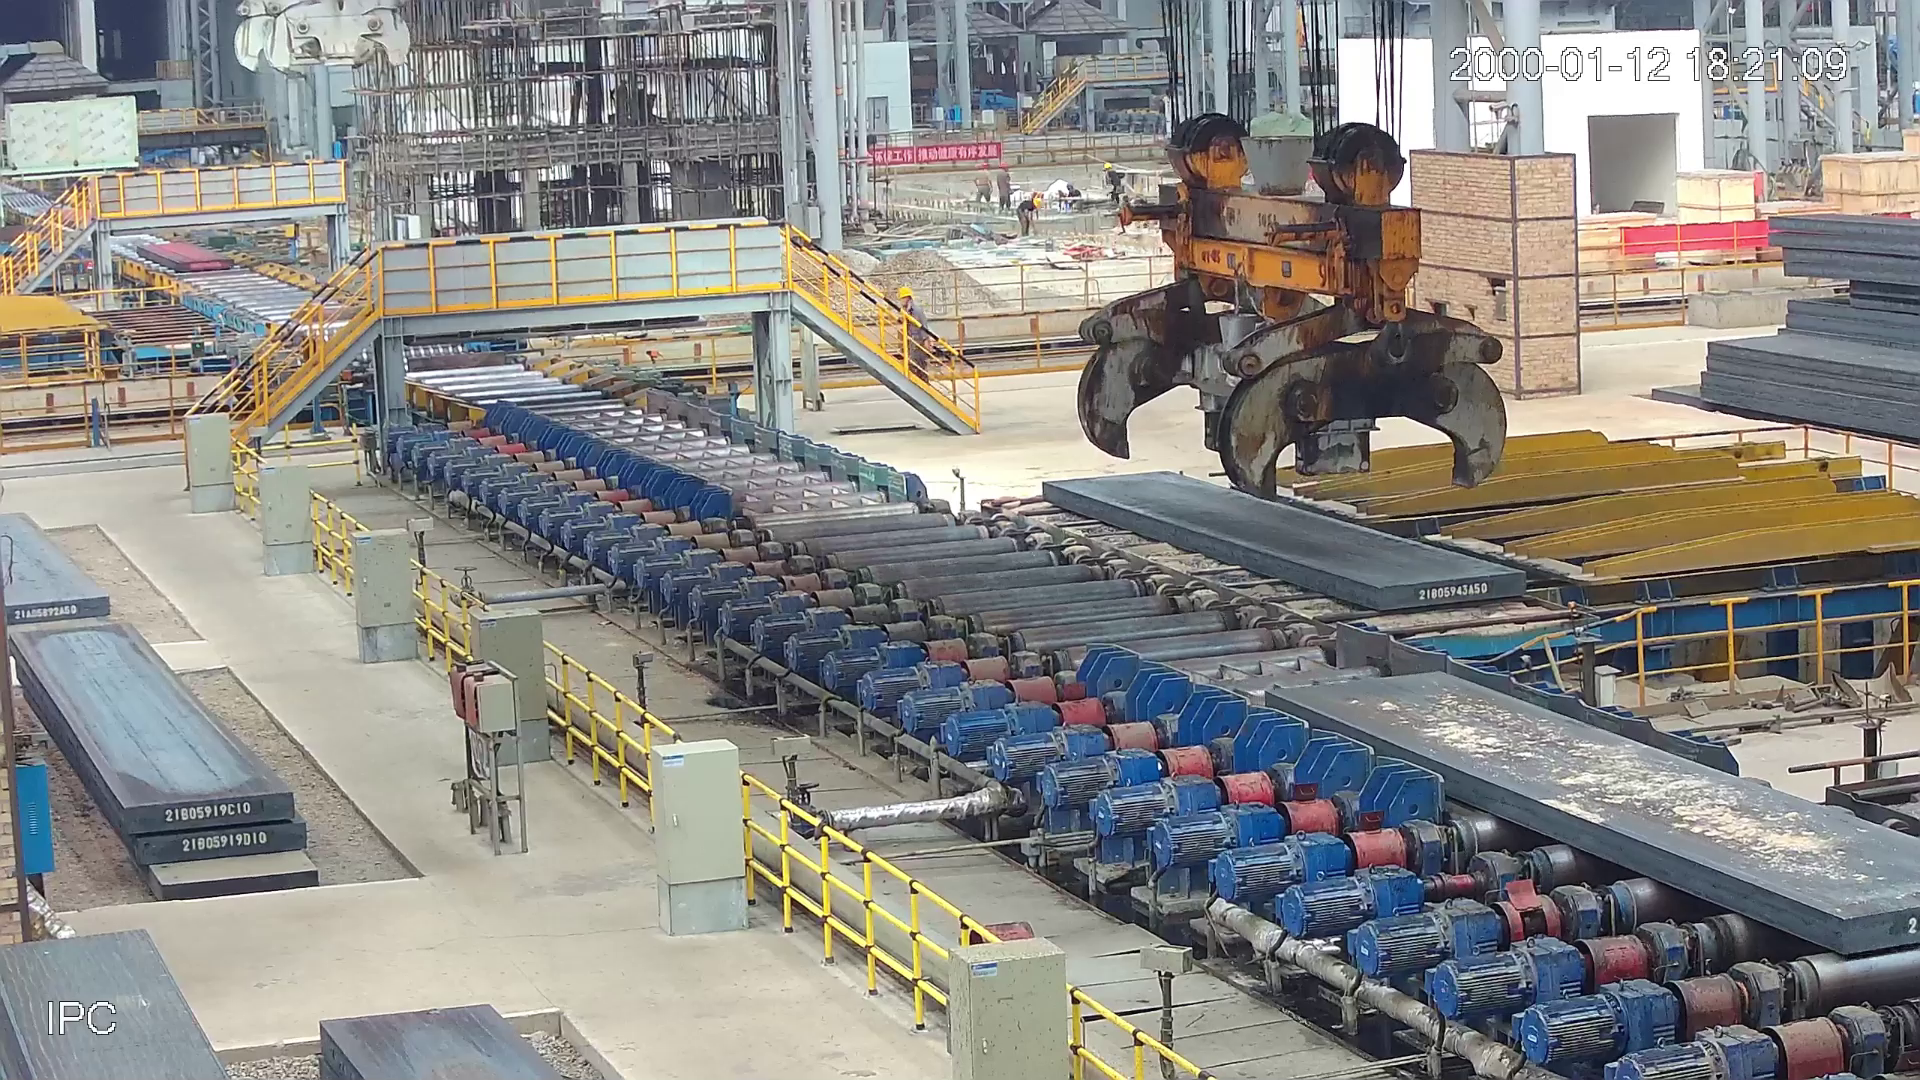crane: (1067, 105, 1507, 510)
slab: (1251, 669, 1920, 959), (1034, 467, 1531, 613), (131, 239, 239, 277)
